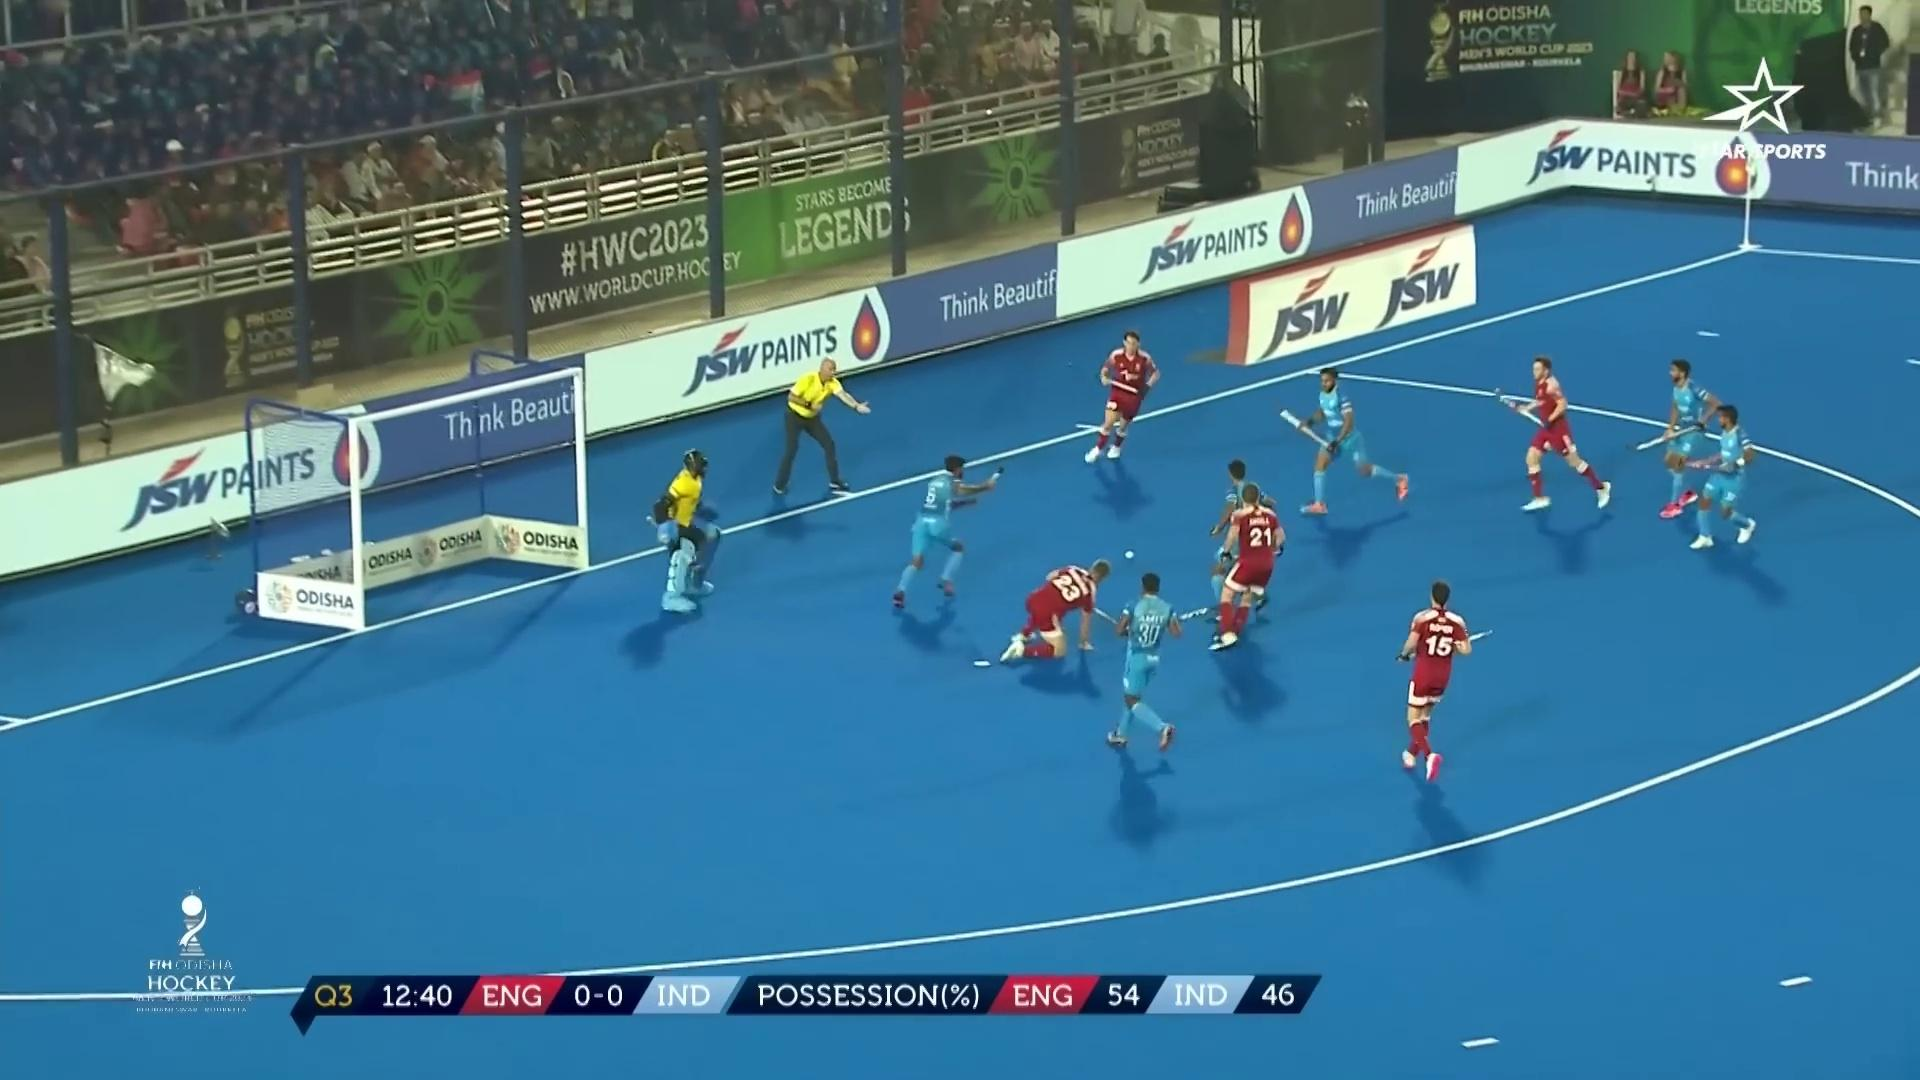ball: (1113, 534, 1154, 572)
